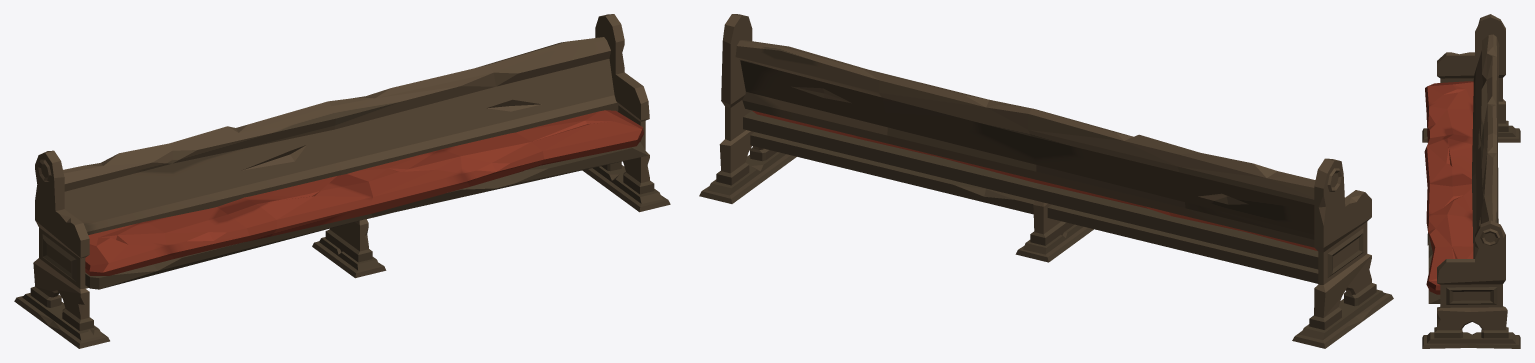
File: crypt_pew_l.gltf
3 renders of one model, left to right at view 1: azimuth 30°, elevation 25°; view 2: azimuth 150°, elevation 25°; view 3: azimuth 270°, elevation 25°, orthographic. The views are drawn at different scales.
Visible parts, largest first — view 1: crypt_pew_l; view 2: crypt_pew_l; view 3: crypt_pew_l.
Part boxes in pixels (x1,y1,x2,y2): crypt_pew_l: (14, 14, 670, 348); crypt_pew_l: (699, 14, 1393, 348); crypt_pew_l: (1422, 14, 1520, 348).
Bounding box in the file's own units: 4.02 × 1.04 × 0.7643.
Materials: 1 (1 with a texture image).
